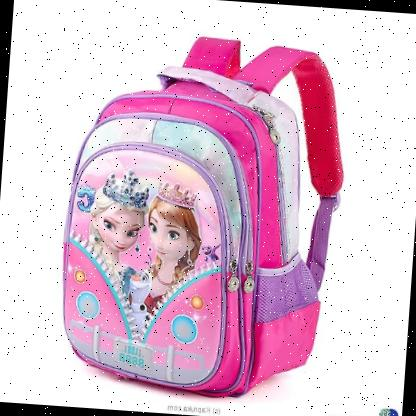bag: (53, 22, 357, 405)
